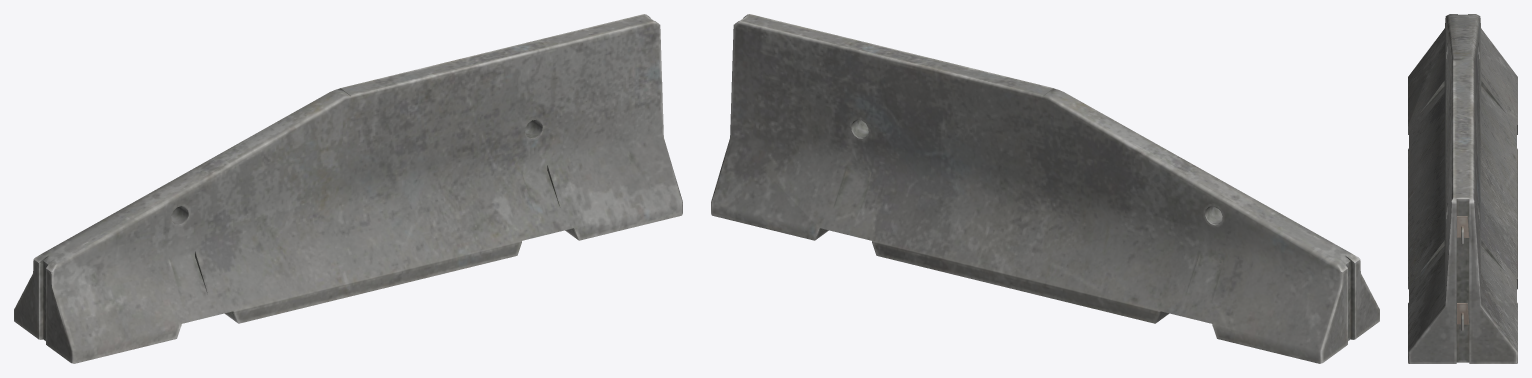
Rendered from road-barrier-cap-1.glb.
3 views of the same model, side by side, from view 1: azimuth 30°, elevation 25°; view 2: azimuth 150°, elevation 25°; view 3: azimuth 270°, elevation 25° (orthographic). The views are drawn at different scales.
Visible parts, largest first — view 1: Object_25; view 2: Object_25; view 3: Object_25.
Part boxes in pixels (x1,y1,x2,y2): Object_25: (14,14,682,363); Object_25: (711,14,1379,363); Object_25: (1408,14,1517,363).
Bounding box in the file's own units: 3.96 × 1.09 × 0.659.
1 material, 1 textured.
